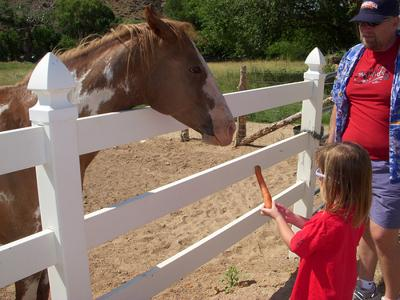person: (261, 141, 374, 300)
